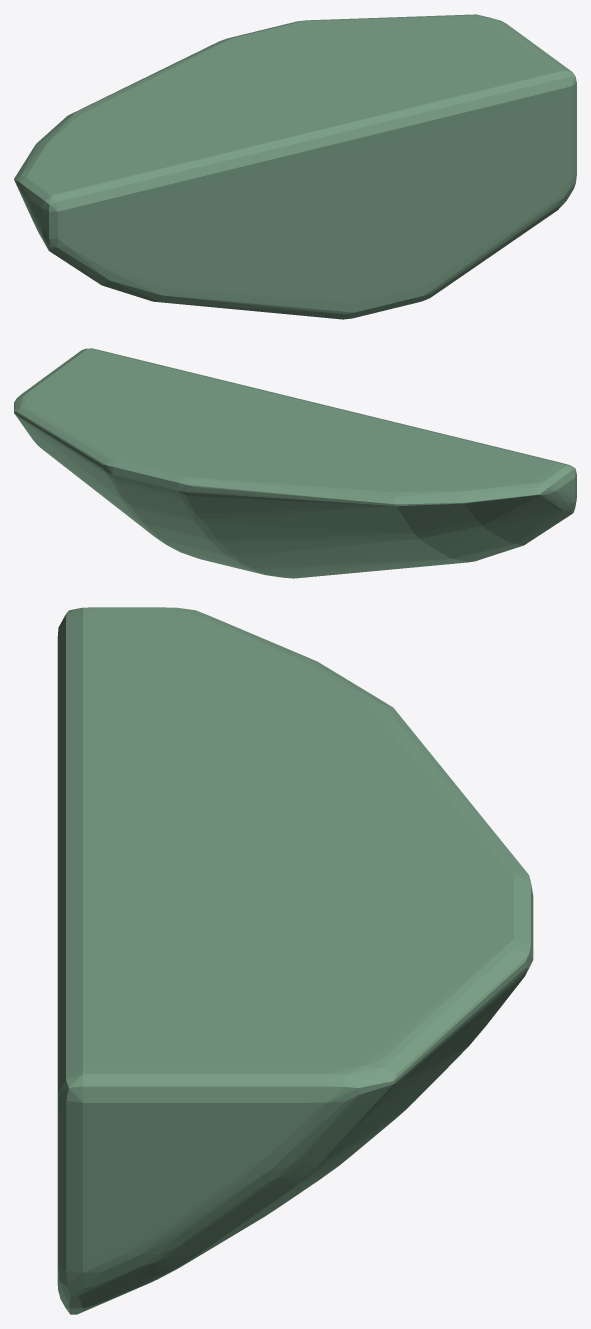
File: left_hip_yaw_link_part_0.obj
3 views of the same model, one above another, from view 1: azimuth 30°, elevation 25°; view 2: azimuth 150°, elevation 25°; view 3: azimuth 270°, elevation 25° (orthographic). The views are drawn at different scales.
Bounding box in the file's own units: 0.0753 × 0.0261 × 0.0313.
